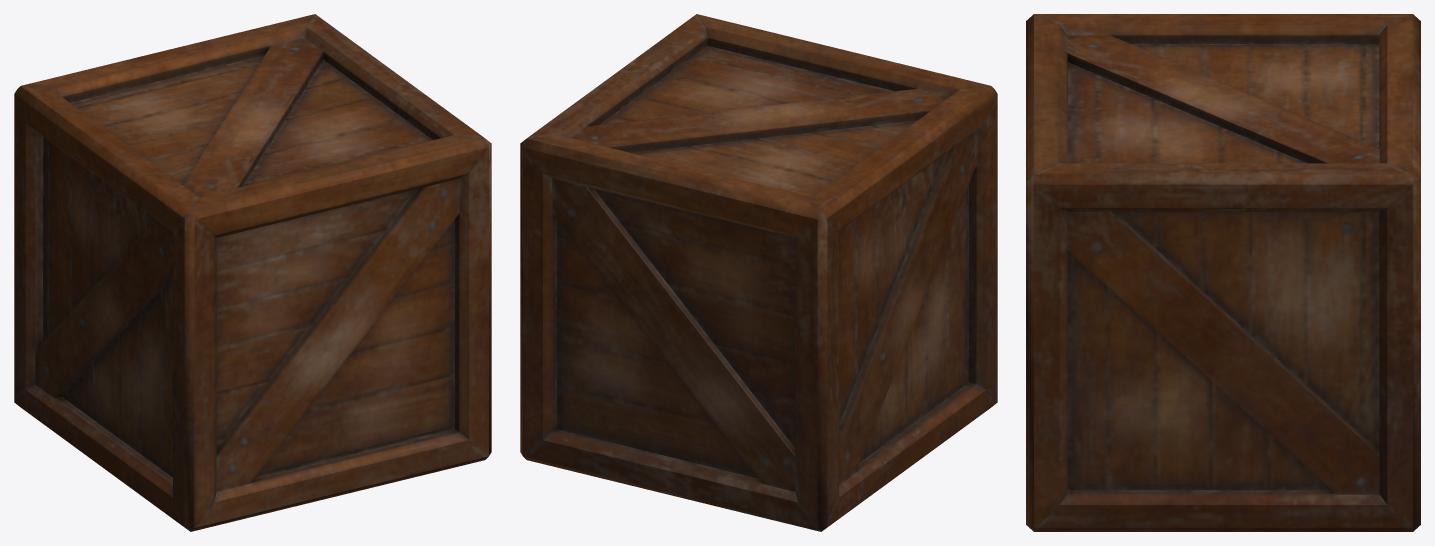
Rendered from crate.glb.
3 views of the same model, side by side, from view 1: azimuth 30°, elevation 25°; view 2: azimuth 150°, elevation 25°; view 3: azimuth 270°, elevation 25° (orthographic). The views are drawn at different scales.
Visible parts, largest first — view 1: crate_1.001; view 2: crate_1.001; view 3: crate_1.001.
Boxes of the visible parts, x1,y1,x2,y2 form: crate_1.001: [14, 14, 491, 531]; crate_1.001: [520, 14, 997, 531]; crate_1.001: [1026, 14, 1420, 531].
Bounding box in the file's own units: 1.13 × 1.13 × 1.13.
Materials: 1 (1 with a texture image).
